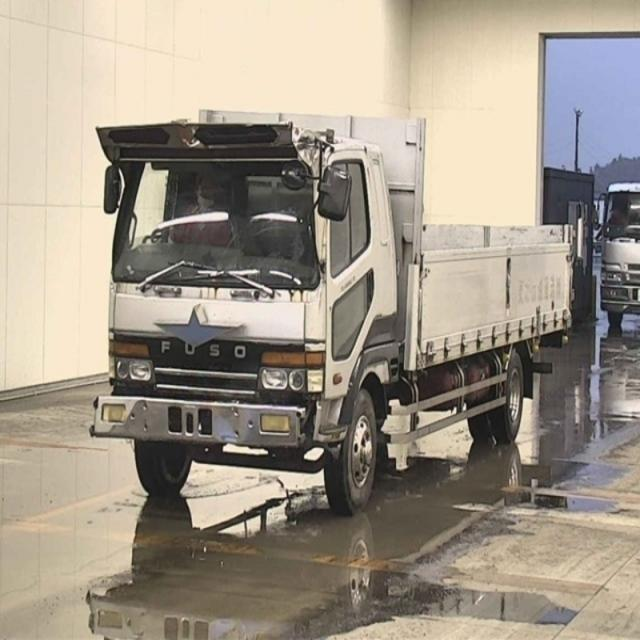truck: (94, 106, 578, 513)
